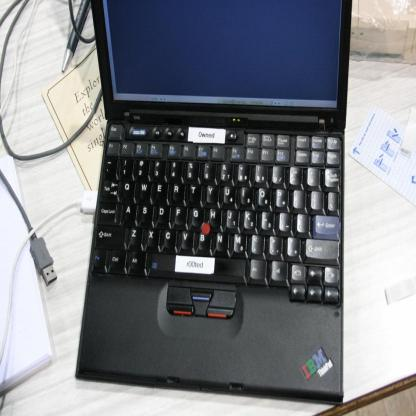board: (74, 0, 353, 402)
